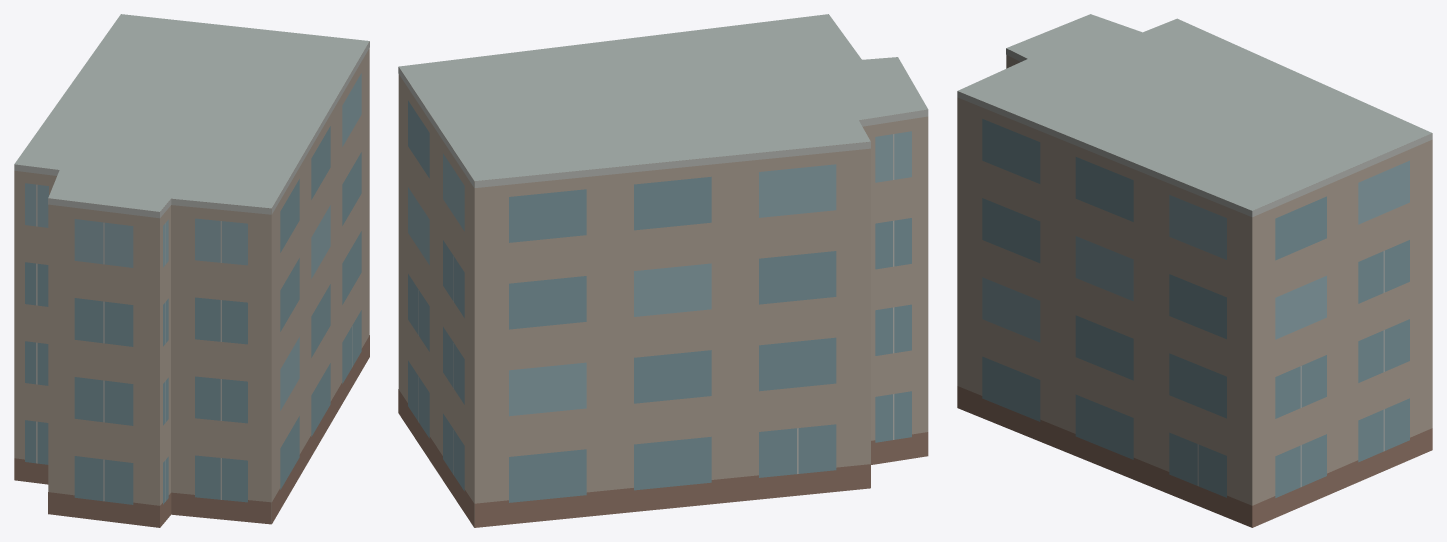
Rendered from survey-upis-32531013.glb.
The picture shows the model from 3 angles, left to right: view 1: azimuth 30°, elevation 25°; view 2: azimuth 150°, elevation 25°; view 3: azimuth 270°, elevation 25°; orthographic projection. The views are drawn at different scales.
Visible parts, largest first — view 1: survey-upis-32531013.tmp; view 2: survey-upis-32531013.tmp; view 3: survey-upis-32531013.tmp.
Boxes of the visible parts, x1,y1,x2,y2 form: survey-upis-32531013.tmp: [14, 14, 369, 527]; survey-upis-32531013.tmp: [398, 14, 928, 527]; survey-upis-32531013.tmp: [957, 14, 1432, 527].
Bounding box in the file's own units: 16.13 × 12.1 × 16.45.
